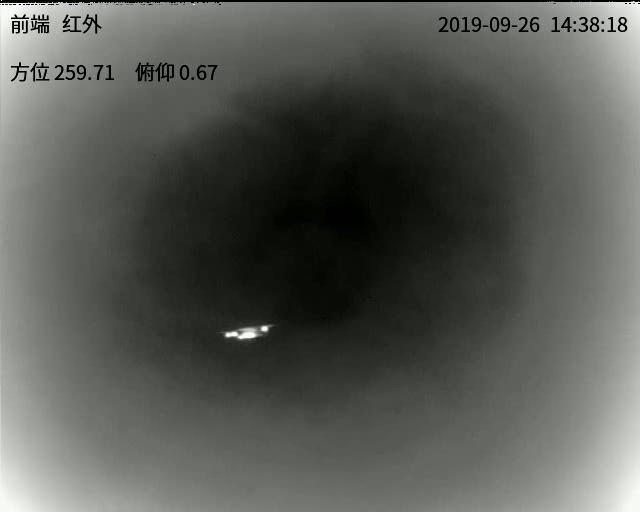DRONE: (221, 324, 273, 343)
